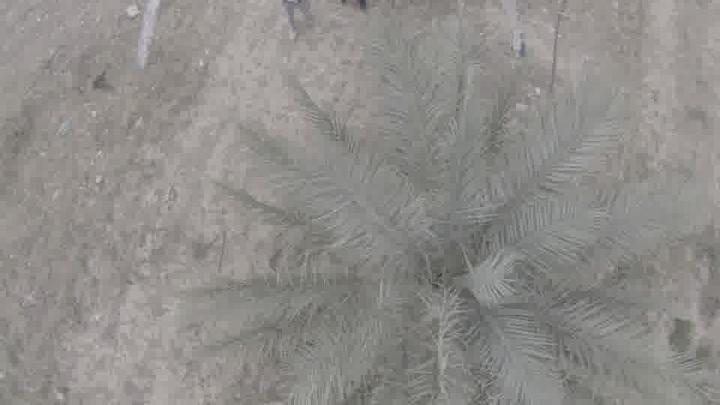Date-Palm-Crown: (324, 147, 566, 403)
